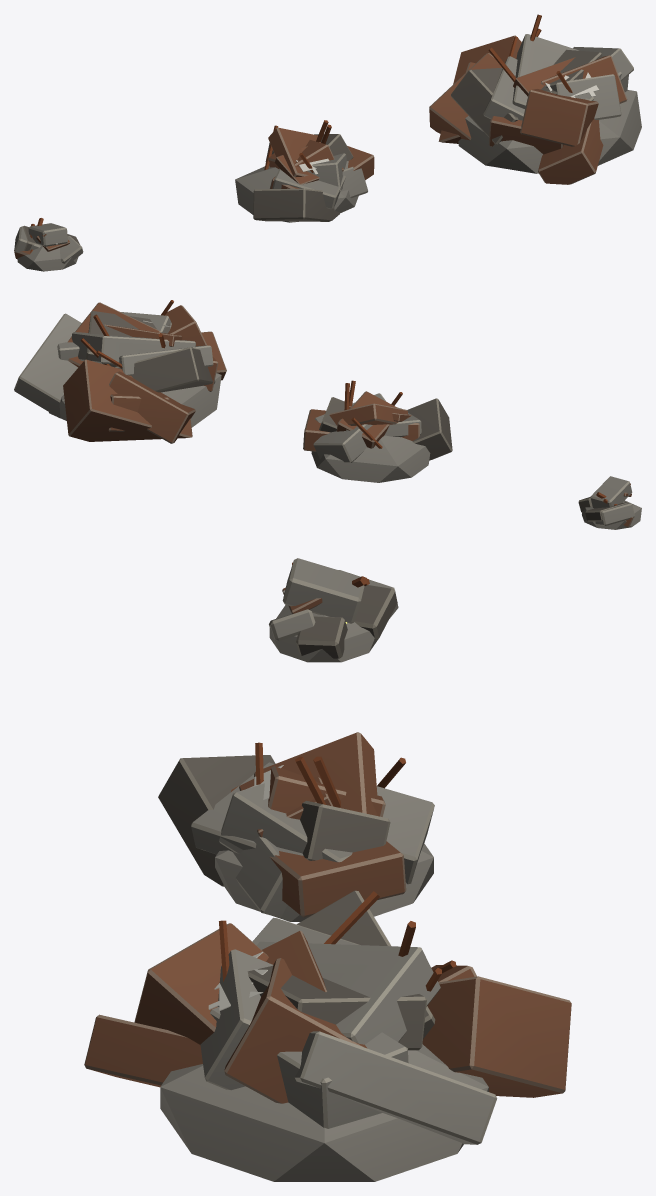
File: b_rubble.glb
The picture shows the model from 3 angles, top to bottom: view 1: azimuth 30°, elevation 25°; view 2: azimuth 150°, elevation 25°; view 3: azimuth 270°, elevation 25°; orthographic projection. The views are drawn at different scales.
Visible parts, largest first — view 1: rubble_l, rubble_m, rubble_s; view 2: rubble_l, rubble_m, rubble_s; view 3: rubble_l, rubble_m, rubble_s.
Part boxes in pixels (left/top/right/bottom): rubble_l: left=429, top=14, right=641, bottom=184; rubble_m: left=235, top=120, right=374, bottom=222; rubble_s: left=14, top=218, right=83, bottom=271; rubble_l: left=14, top=300, right=226, bottom=443; rubble_m: left=303, top=380, right=452, bottom=482; rubble_s: left=578, top=476, right=641, bottom=529; rubble_l: left=84, top=890, right=571, bottom=1181; rubble_m: left=158, top=732, right=434, bottom=921; rubble_s: left=269, top=558, right=398, bottom=662.
Size of the model in its own units: 8.61 by 1.37 by 3.06.
